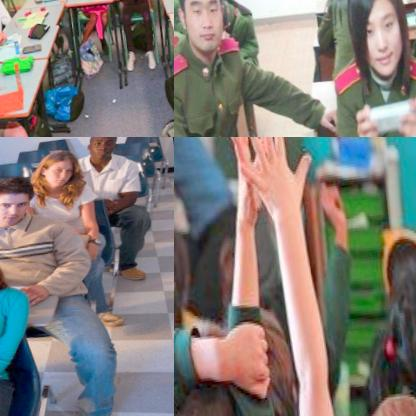head: (341, 0, 414, 83), (174, 342, 252, 416), (385, 264, 416, 388), (373, 213, 416, 300), (174, 214, 201, 327), (174, 0, 231, 53), (33, 146, 77, 190), (0, 177, 32, 227), (83, 137, 117, 158)
